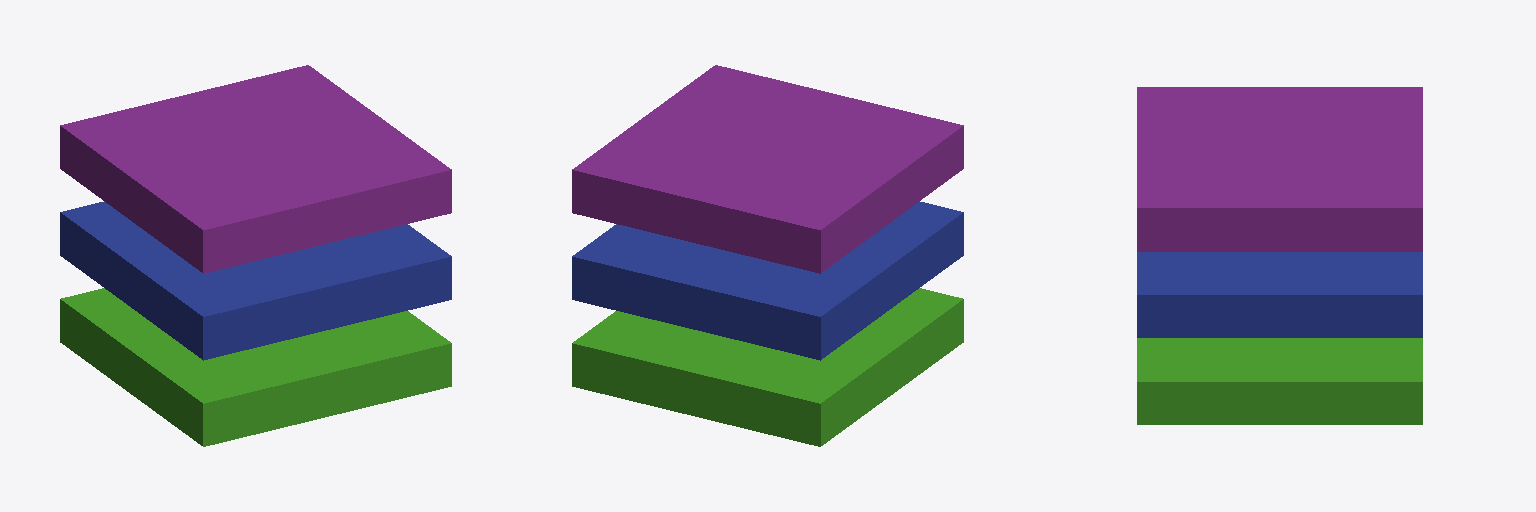
3 views of the same model, side by side, from view 1: azimuth 30°, elevation 25°; view 2: azimuth 150°, elevation 25°; view 3: azimuth 270°, elevation 25° (orthographic).
Bounding box in the file's own units: 6 × 5 × 6.
1 materials, 1 textured.